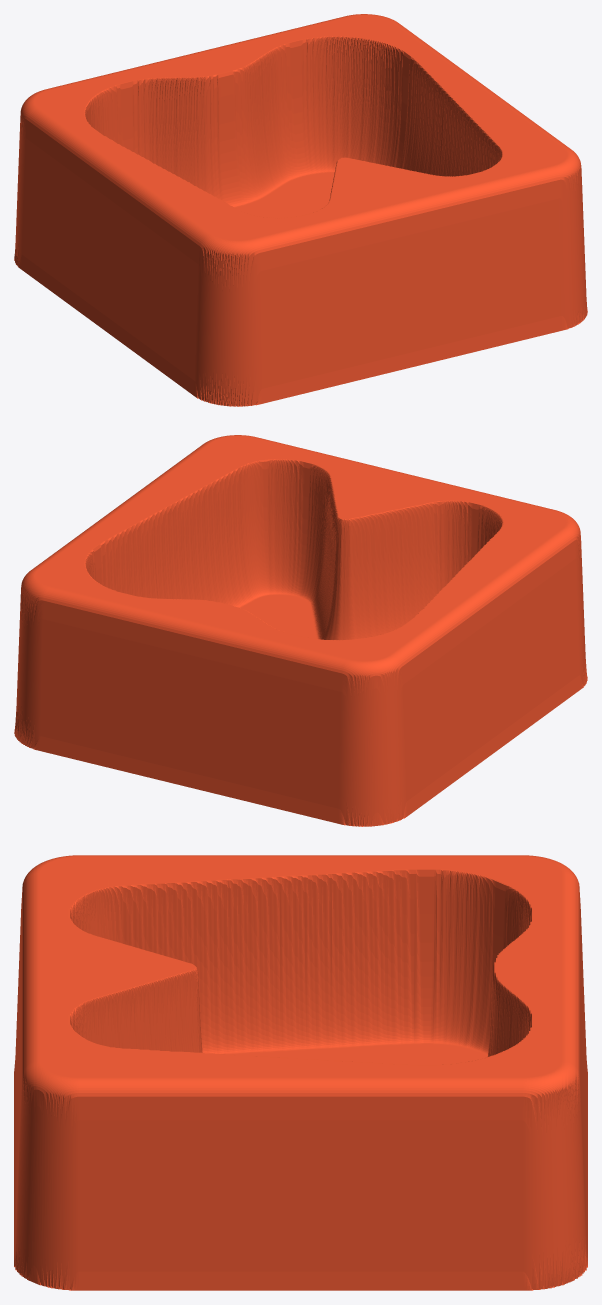
Rendered from mold.glb.
3 views of the same model, one above another, from view 1: azimuth 30°, elevation 25°; view 2: azimuth 150°, elevation 25°; view 3: azimuth 270°, elevation 25° (orthographic). The views are drawn at different scales.
Visible parts, largest first — view 1: geometry_0; view 2: geometry_0; view 3: geometry_0.
Boxes of the visible parts, box(x1,y1,x2,y2) form: geometry_0: box(14, 14, 587, 406); geometry_0: box(14, 435, 587, 826); geometry_0: box(14, 855, 587, 1290).
Size of the model in its own units: 0.0798 by 0.031 by 0.0798.
